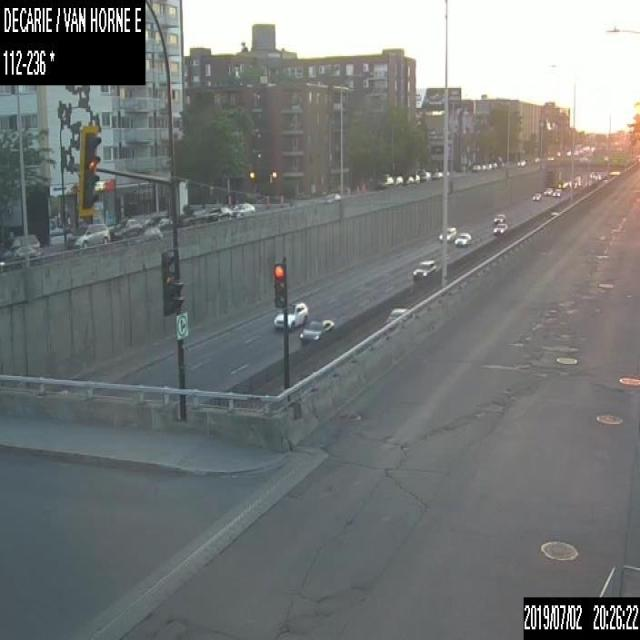vehicle: (0, 246, 43, 270), (66, 224, 110, 247), (272, 300, 306, 329), (0, 234, 40, 258), (298, 319, 334, 340), (177, 203, 206, 224), (110, 217, 140, 237), (205, 203, 232, 221), (412, 259, 436, 277), (384, 305, 408, 323), (144, 214, 172, 229), (138, 226, 162, 242), (232, 201, 254, 217), (376, 168, 392, 187), (438, 227, 456, 241), (454, 232, 470, 245), (492, 222, 506, 235), (323, 192, 339, 202), (391, 173, 402, 185), (416, 168, 426, 181), (494, 212, 504, 223), (402, 174, 412, 183), (431, 170, 442, 178), (552, 187, 560, 196), (543, 186, 551, 195), (412, 172, 419, 182), (532, 192, 540, 200), (517, 158, 525, 166), (489, 160, 496, 168), (472, 163, 479, 170), (485, 163, 491, 168), (479, 164, 486, 168)
